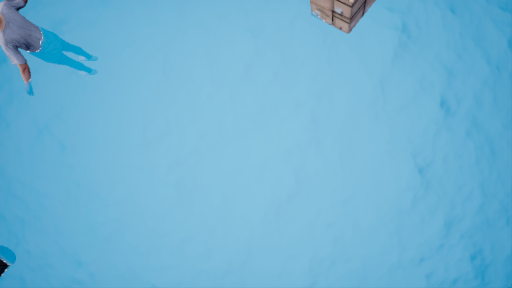person: (1, 2, 103, 98)
